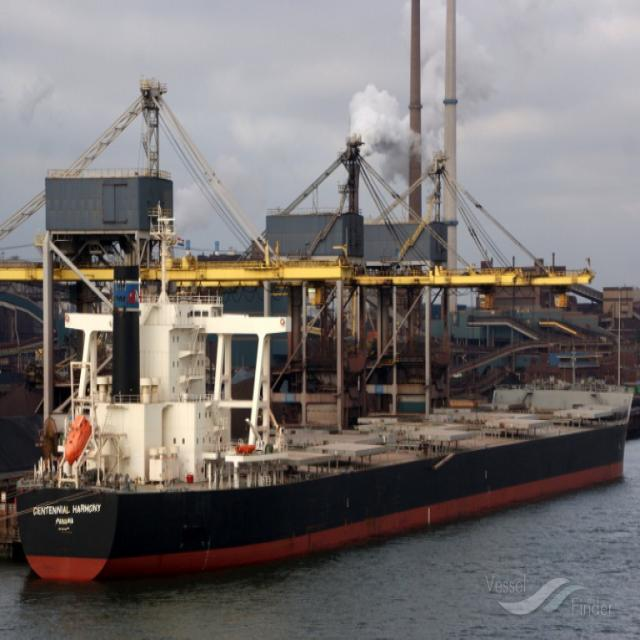OCR: (30, 501, 111, 539)
